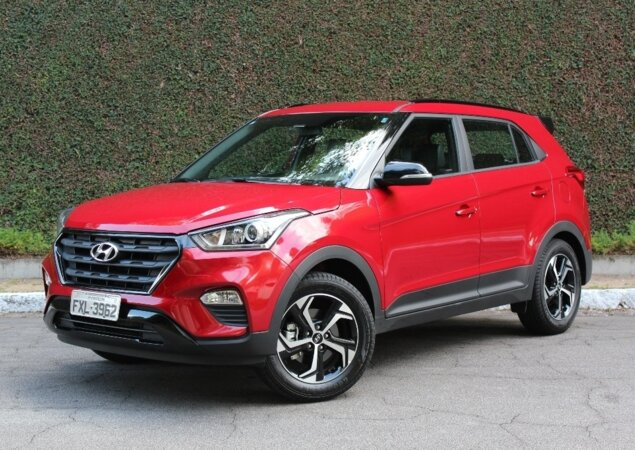car: (35, 90, 596, 403)
car_plate: (68, 286, 122, 324)
